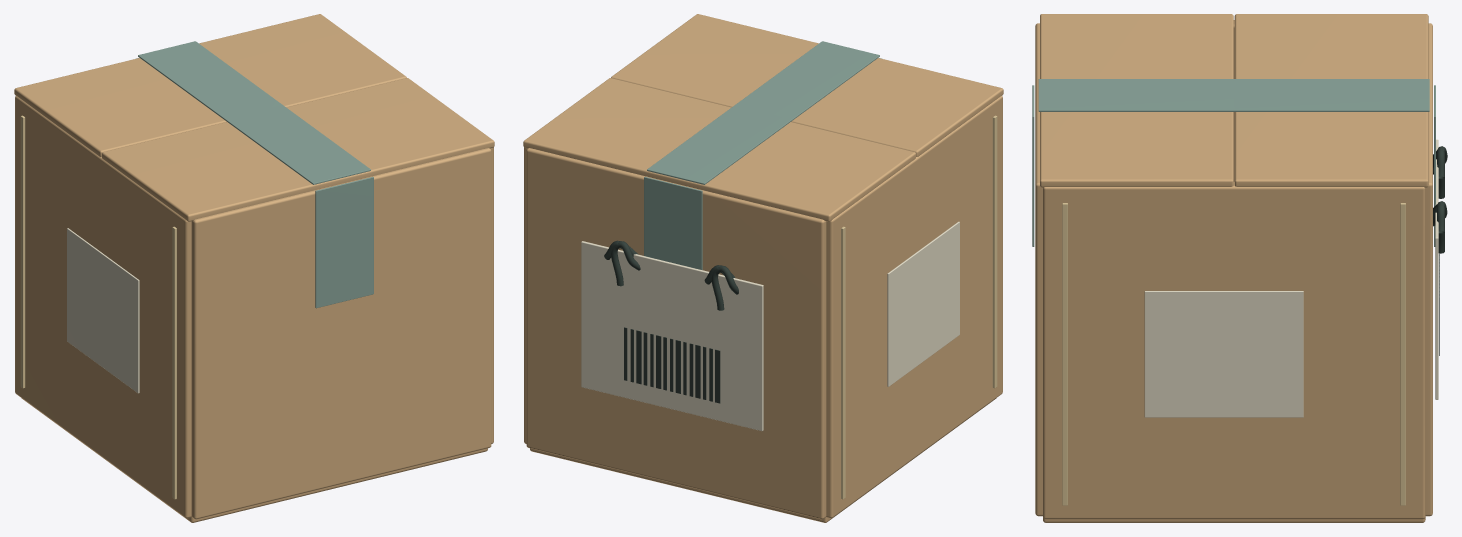
Rendered from standard.glb.
3 renders of one model, left to right at view 1: azimuth 30°, elevation 25°; view 2: azimuth 150°, elevation 25°; view 3: azimuth 270°, elevation 25°, orthographic. The views are drawn at different scales.
Visible parts, largest first — view 1: Surface Kraft cardboard, Folded lid.001, Folded lid, Surface Ivory paper, Surface Sage enamel, Lid tape.001, Lid tape, Surface Parcel tape; view 2: Surface Kraft cardboard, Surface Ivory paper, Folded lid, Folded lid.001, Lid tape, Surface Printed ink, Lid tape.001, Surface Sage enamel, Surface Parcel tape; view 3: Surface Kraft cardboard, Folded lid, Folded lid.001, Surface Ivory paper, Lid tape.001, Lid tape, Surface Parcel tape, Surface Printed ink, Surface Sage enamel.
Part boxes in pixels (box(x1,y1,x2,y2)): Surface Kraft cardboard: box(15, 96, 493, 522); Folded lid.001: box(102, 78, 494, 221); Folded lid: box(14, 14, 406, 156); Surface Ivory paper: box(67, 228, 139, 393); Surface Sage enamel: box(135, 58, 373, 308); Lid tape.001: box(225, 105, 370, 184); Lid tape: box(138, 41, 282, 119); Surface Parcel tape: box(20, 115, 176, 499); Surface Kraft cardboard: box(524, 96, 1002, 522); Surface Ivory paper: box(581, 221, 959, 431); Folded lid: box(523, 78, 915, 221); Folded lid.001: box(611, 14, 1003, 156); Lid tape: box(647, 105, 792, 184); Surface Printed ink: box(604, 240, 738, 403); Lid tape.001: box(735, 41, 879, 120); Surface Sage enamel: box(644, 58, 882, 269); Surface Parcel tape: box(841, 115, 997, 499); Surface Kraft cardboard: box(1035, 20, 1432, 522); Folded lid: box(1234, 14, 1428, 187); Folded lid.001: box(1040, 14, 1233, 187); Surface Ivory paper: box(1144, 139, 1438, 417); Lid tape.001: box(1038, 79, 1234, 111); Lid tape: box(1234, 79, 1429, 111); Surface Parcel tape: box(1062, 203, 1405, 505); Surface Printed ink: box(1433, 146, 1447, 355); Surface Sage enamel: box(1032, 85, 1435, 246).
Bounding box in the file's own units: 0.812 × 0.774 × 0.8354.
